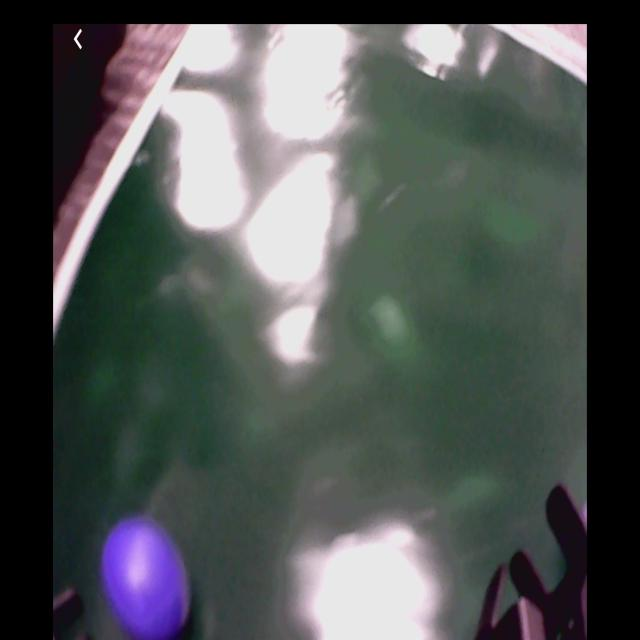ball: (103, 517, 188, 636)
